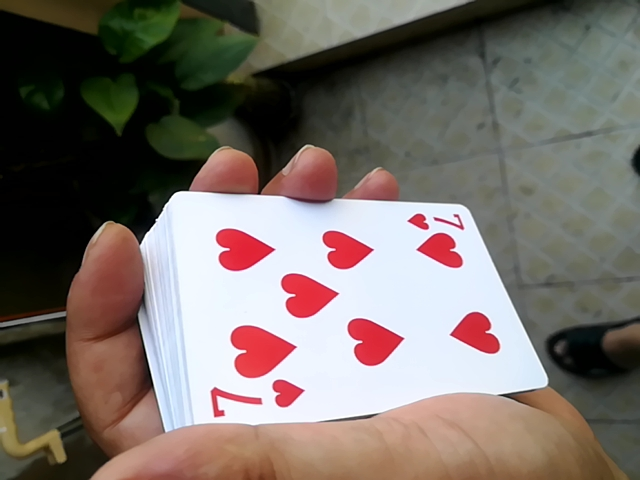hx 7: (139, 193, 547, 427)
